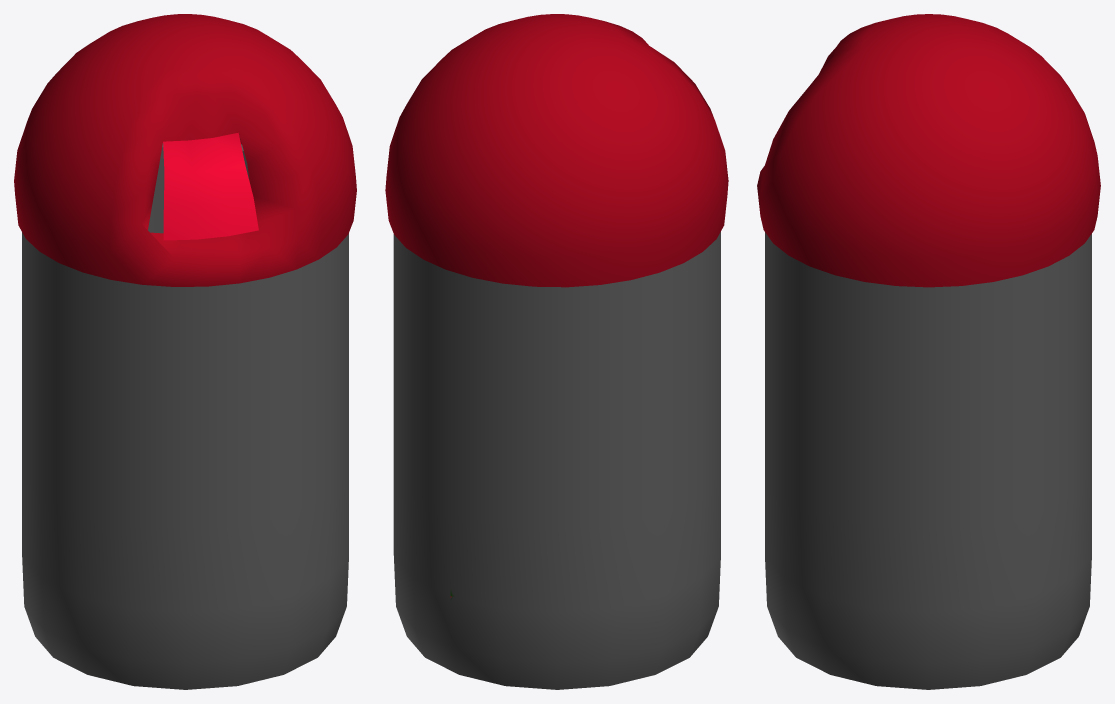
File: trashcan.fbx
The picture shows the model from 3 angles, left to right: view 1: azimuth 30°, elevation 25°; view 2: azimuth 150°, elevation 25°; view 3: azimuth 270°, elevation 25°; orthographic projection.
Visible parts, largest first — view 1: Cylinder001, Sphere001; view 2: Cylinder001, Sphere001; view 3: Cylinder001, Sphere001.
Boxes of the visible parts, x1,y1,x2,y2 form: Cylinder001: (22,143,348,689); Sphere001: (14,14,356,286); Cylinder001: (393,232,720,689); Sphere001: (385,14,728,287); Cylinder001: (765,232,1091,689); Sphere001: (757,14,1100,287).
Size of the model in its own units: 18.6 by 35.54 by 18.6.
Materials: 1 (1 with a texture image).
